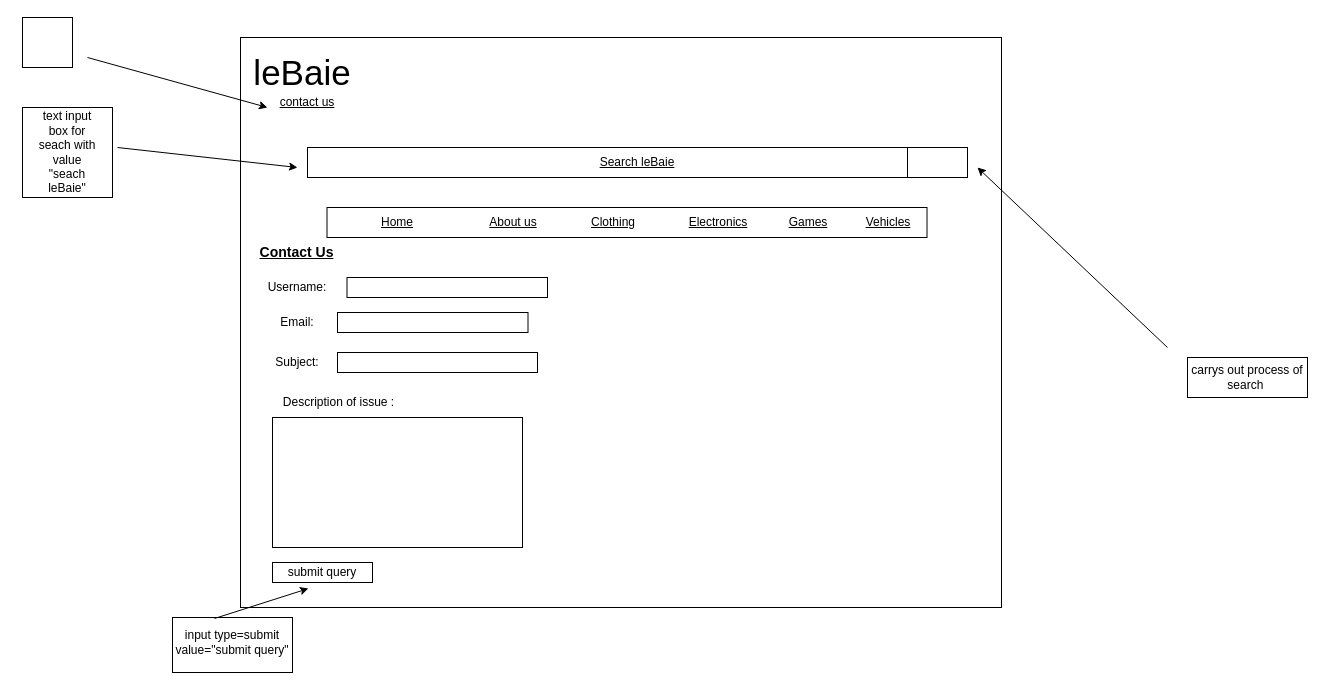
Some shapes in this 1325 by 690 pixel diagram are drawn without their labels. The centre of each missing label's shape, as x and y in pixels:
internal hyperlink: point (47, 42)
Search: point (937, 162)
